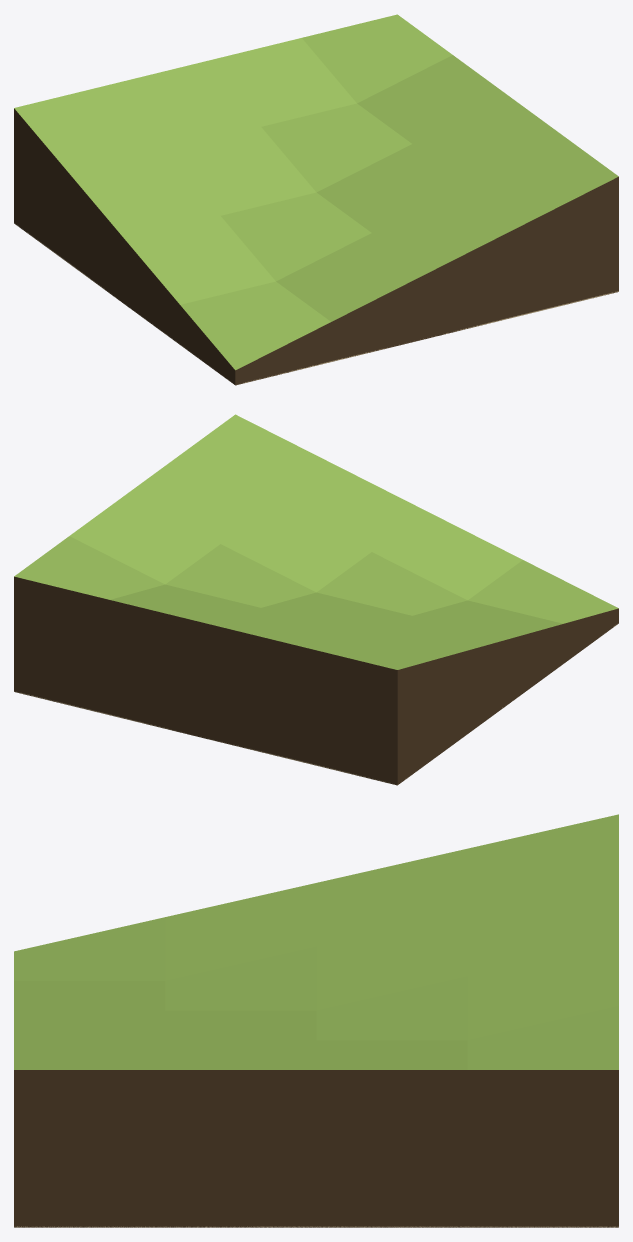
File: terrain_tile_slope_corner_in.glb
3 renders of one model, top to bottom at view 1: azimuth 30°, elevation 25°; view 2: azimuth 150°, elevation 25°; view 3: azimuth 270°, elevation 25°, orthographic. The views are drawn at different scales.
Visible parts, largest first — view 1: terrain_tile_slope_corner_in; view 2: terrain_tile_slope_corner_in; view 3: terrain_tile_slope_corner_in.
Boxes of the visible parts, left/top/right/bottom form: terrain_tile_slope_corner_in: left=14, top=14, right=618, bottom=385; terrain_tile_slope_corner_in: left=14, top=414, right=618, bottom=785; terrain_tile_slope_corner_in: left=14, top=814, right=618, bottom=1227.
Bounding box in the file's own units: 8 × 2.3 × 8.
